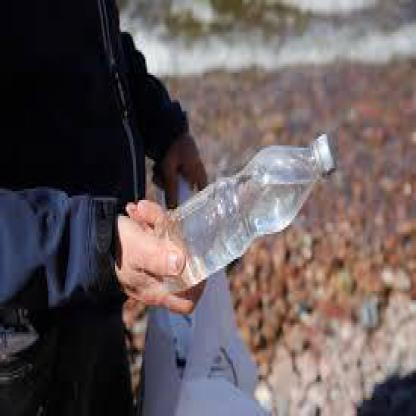plastic bottle: (153, 132, 338, 288)
